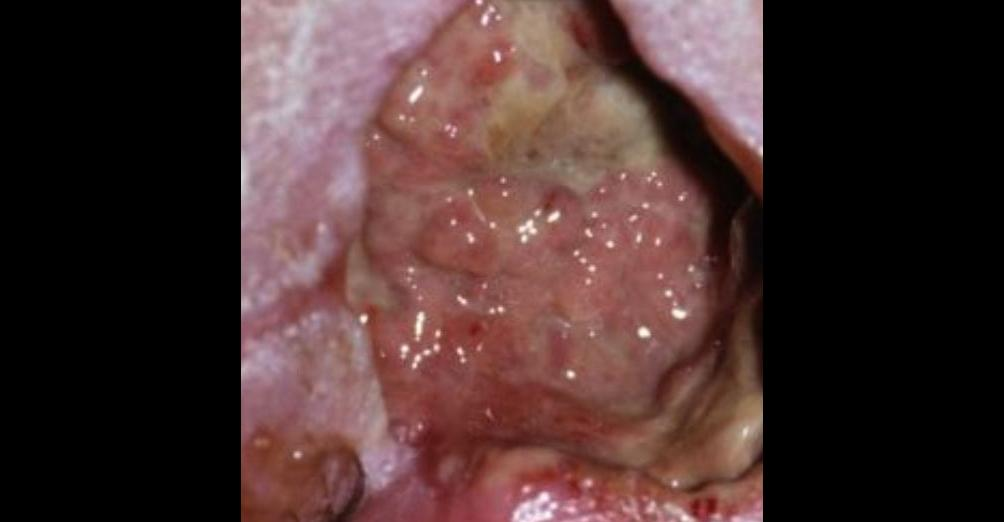Stage4: (296, 0, 763, 522)
